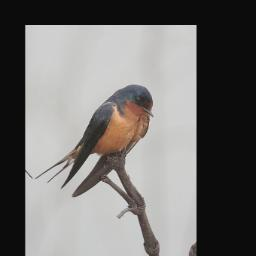Swallow: (35, 72, 158, 206)
